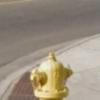a fire hydrant: (29, 52, 74, 100)
